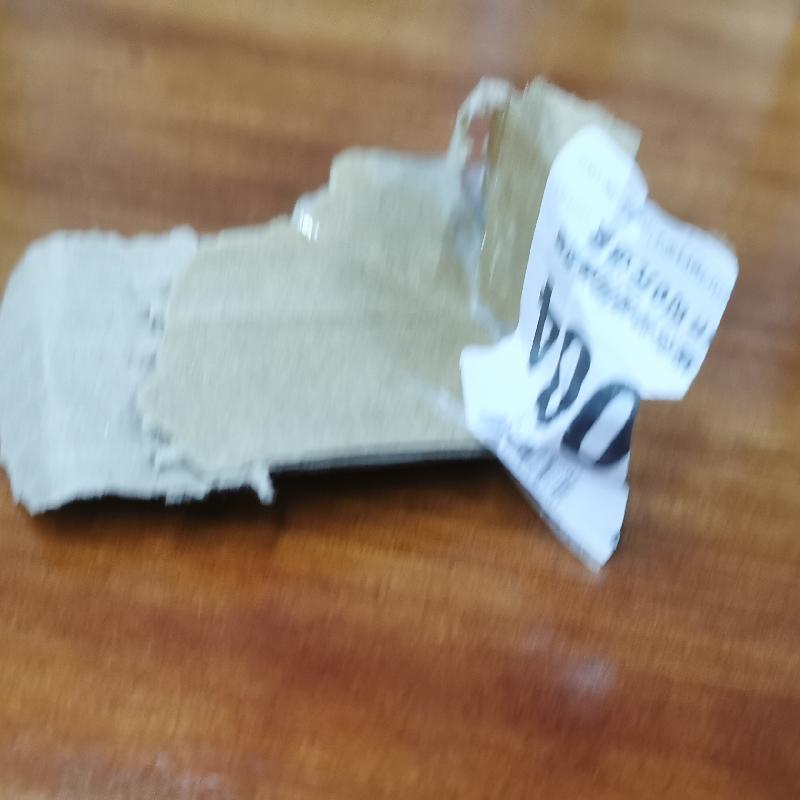boxes: (8, 76, 738, 581)
